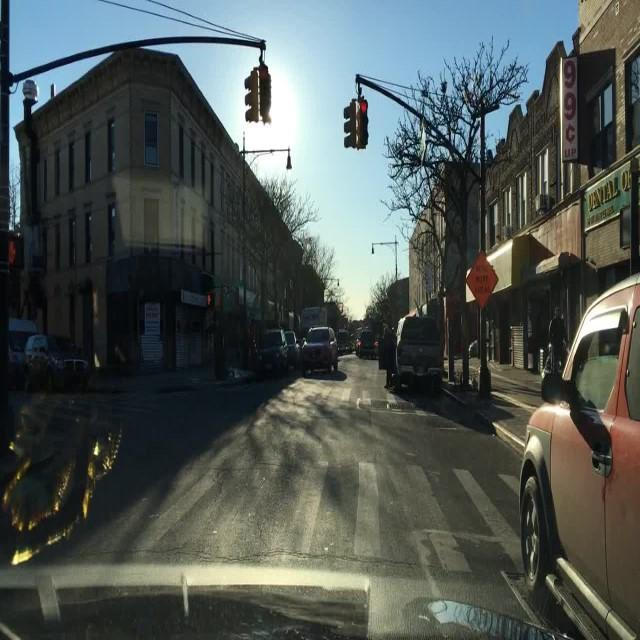normal: (512, 270, 640, 638), (23, 334, 91, 390), (258, 329, 300, 376), (302, 326, 338, 374)
